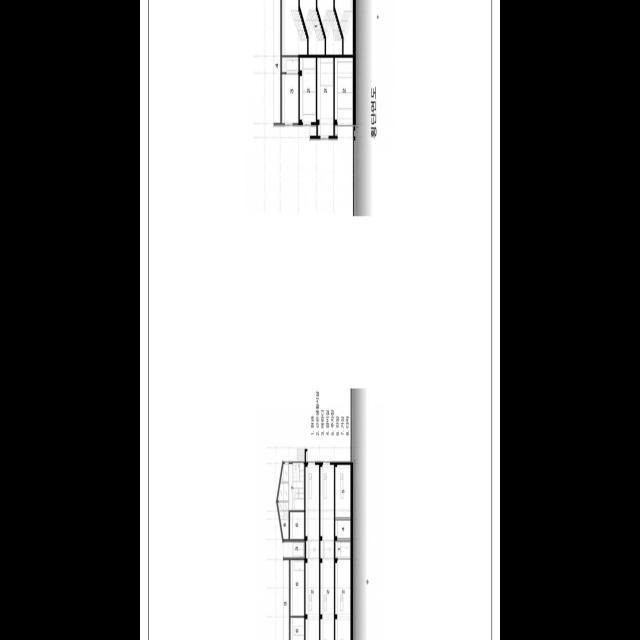background: (140, 0, 500, 640)
space_balconi: (283, 541, 305, 557)
space_bedroom: (290, 560, 304, 615), (290, 511, 304, 539), (291, 617, 304, 640)
space_front: (335, 540, 351, 558)
space_living_room: (289, 462, 304, 510)
space_other: (320, 464, 334, 640), (305, 464, 319, 640), (335, 560, 351, 640), (317, 57, 333, 135), (335, 57, 353, 122), (300, 57, 316, 121), (335, 464, 351, 517), (278, 463, 289, 539), (282, 74, 299, 123), (335, 520, 351, 538), (282, 56, 298, 72)
space_staircase: (282, 0, 353, 55)
